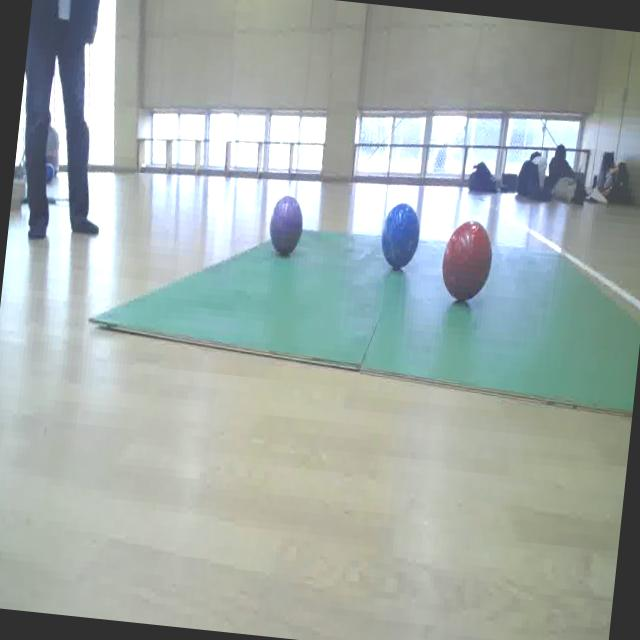blue_ball: (380, 199, 423, 271)
purple_ball: (267, 193, 305, 256)
red_ball: (438, 216, 494, 304)
